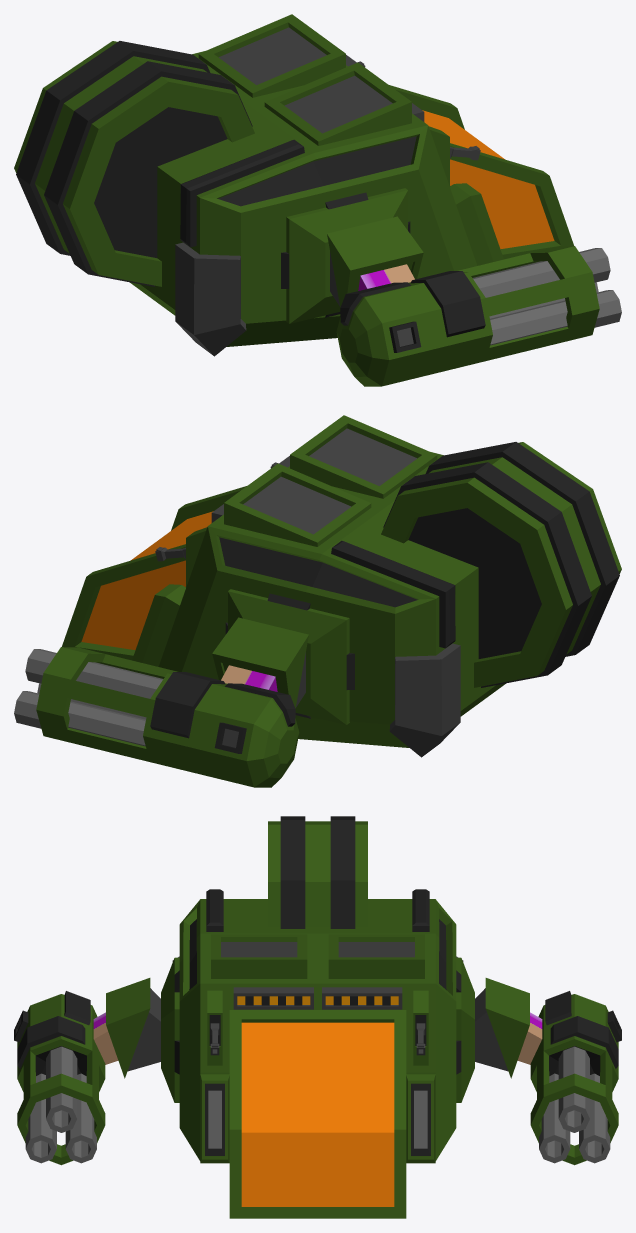
File: Head.fbx
3 renders of one model, top to bottom at view 1: azimuth 30°, elevation 25°; view 2: azimuth 150°, elevation 25°; view 3: azimuth 270°, elevation 25°, orthographic. The views are drawn at different scales.
Visible parts, largest first — view 1: Cube, Cube.002; view 2: Cube, Cube.003; view 3: Cube, Cube.002, Cube.003.
Part boxes in pixels (bbox=[...]): Cube: bbox=[14, 14, 599, 386]; Cube.002: bbox=[472, 248, 621, 345]; Cube: bbox=[36, 415, 621, 787]; Cube.003: bbox=[14, 649, 163, 746]; Cube: bbox=[14, 816, 621, 1218]; Cube.002: bbox=[25, 1046, 96, 1163]; Cube.003: bbox=[539, 1046, 610, 1163].
Bounding box in the file's own units: 393 × 219 × 472.
Materials: 1 (1 with a texture image).
